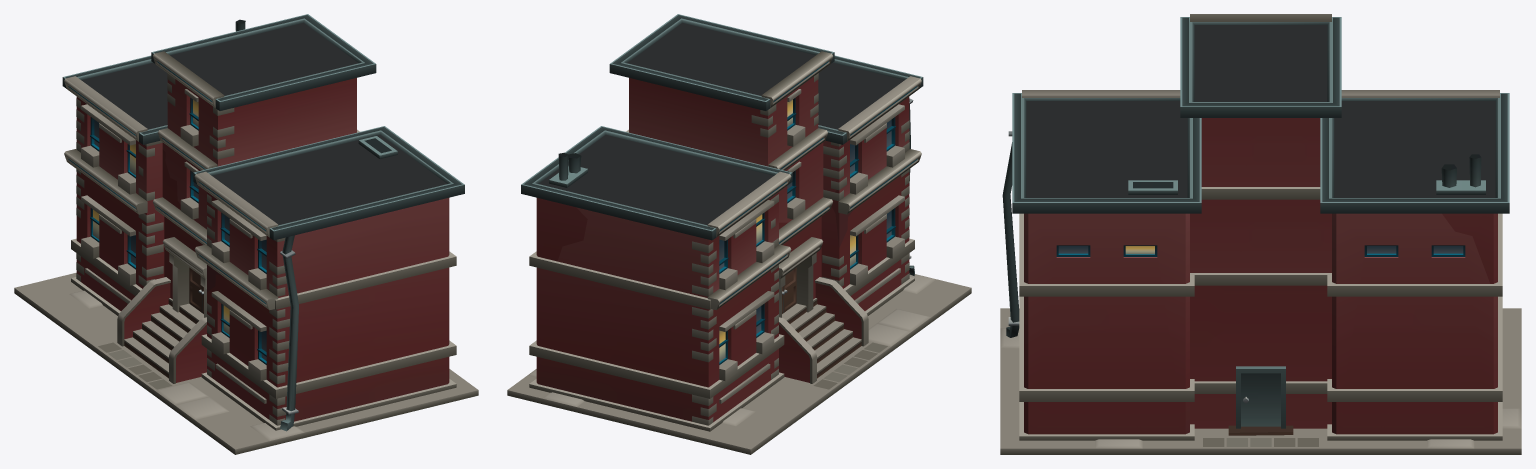
The model's file is Building_5C.fbx.
3 views of the same model, side by side, from view 1: azimuth 30°, elevation 25°; view 2: azimuth 150°, elevation 25°; view 3: azimuth 270°, elevation 25° (orthographic). The views are drawn at different scales.
Visible parts, largest first — view 1: Building_5C, Window_Lights_5C; view 2: Building_5C, Window_Lights_5C; view 3: Building_5C.
Boxes of the visible parts, x1,y1,x2,y2 form: Building_5C: [14, 14, 478, 454]; Window_Lights_5C: [93, 99, 229, 334]; Building_5C: [507, 14, 971, 454]; Window_Lights_5C: [719, 99, 855, 361]; Building_5C: [1000, 14, 1521, 454].
Bounding box in the file's own units: 1400 × 1560 × 2200.
